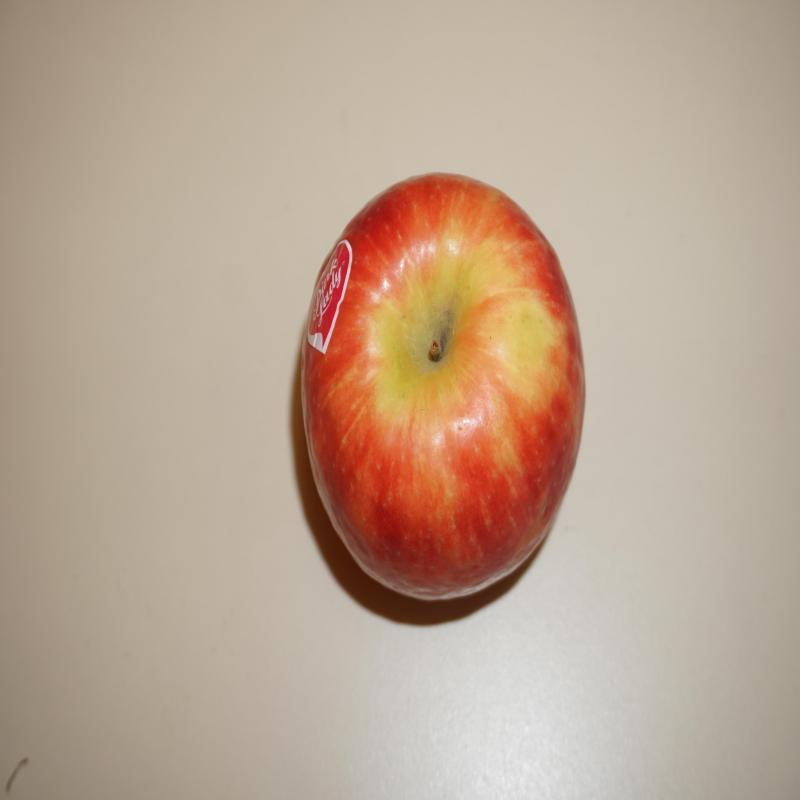Apple: (299, 174, 586, 608)
